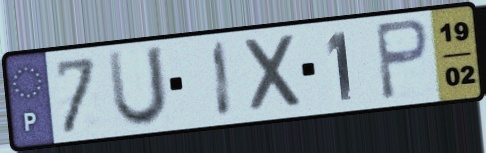1: (324, 29, 354, 102)
7: (54, 54, 99, 135)
I: (209, 38, 235, 120)
P: (372, 16, 433, 103)
U: (104, 43, 171, 130)
X: (241, 30, 307, 117)
